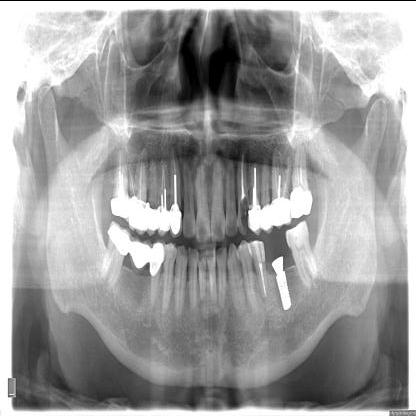ITI: (271, 272, 295, 316)
